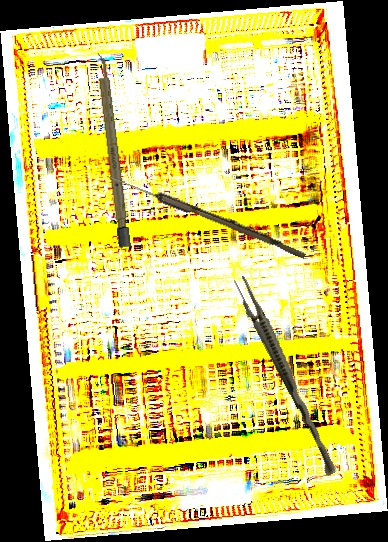Scalpel Handle: (95, 51, 131, 249)
Surgical Spoon: (105, 172, 308, 259)
Tissue Forceps: (228, 274, 345, 477)
